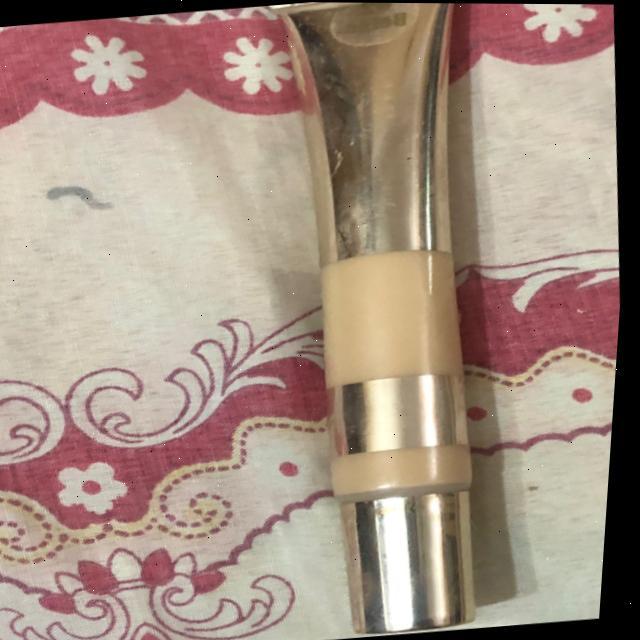bb cream: (221, 1, 586, 640)
